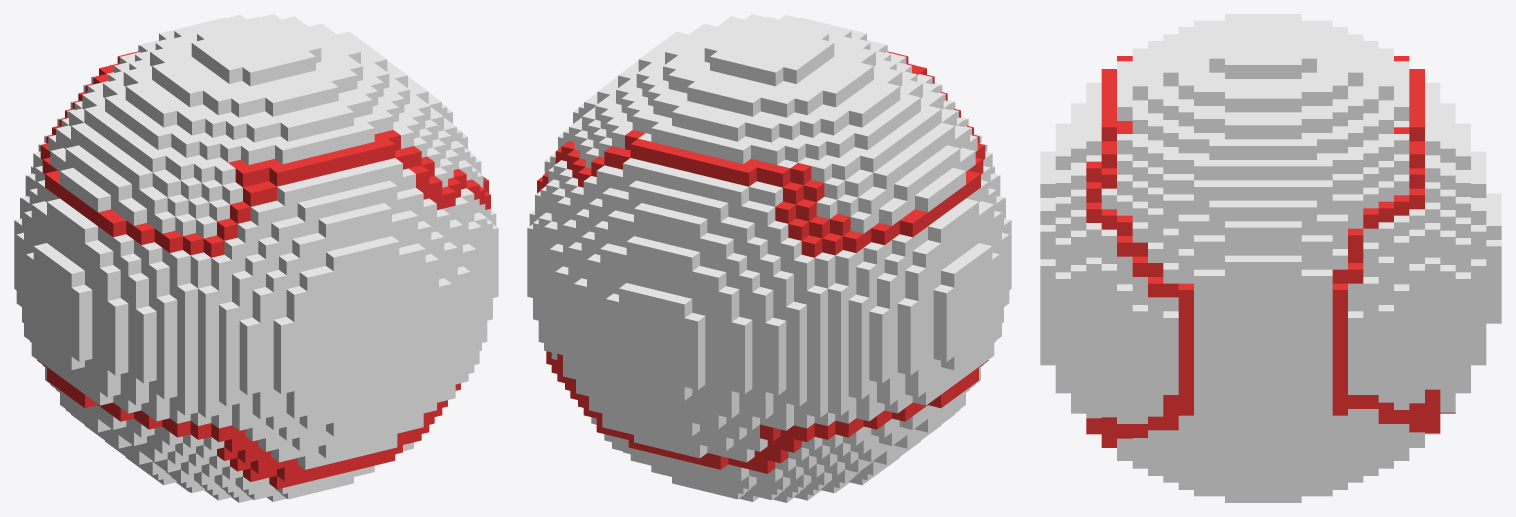
File: baseball.glb
3 renders of one model, left to right at view 1: azimuth 30°, elevation 25°; view 2: azimuth 150°, elevation 25°; view 3: azimuth 270°, elevation 25°, orthographic.
Size of the model in its own units: 3 by 3 by 3.
1 material, 1 textured.
